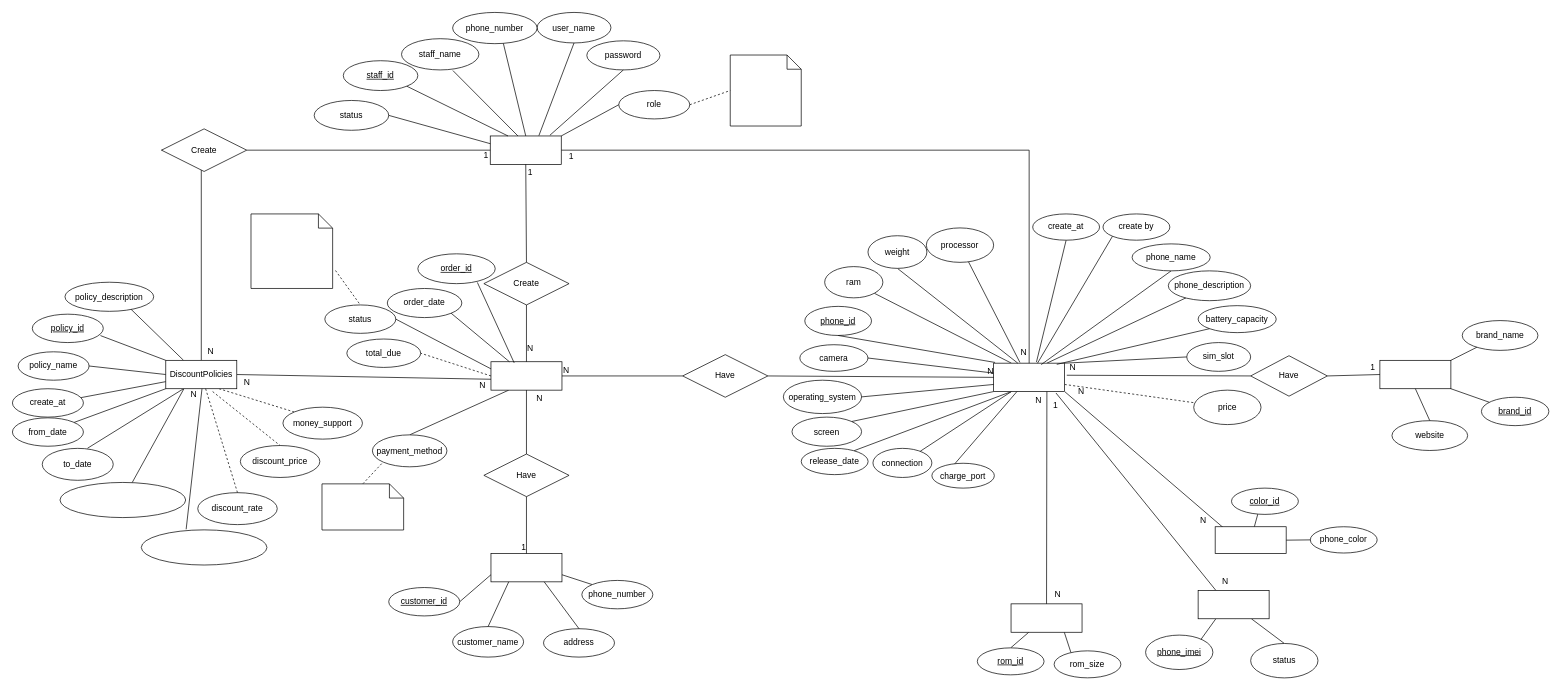
This 1561x691 diagram has some shape labels left out. Here are the shapes that lost their labels. From the top down, the centre of each, then its label:
At point (765, 90): "1. Seller 2. Accountant 3. Manager".
At point (525, 149): "Staffs".
At point (291, 250): "1. Pending 2. Confirmed 3. Cancelled 4. Completed".
At point (526, 375): "Orders".
At point (1029, 377): "Phones".
At point (1415, 374): "Brands".
At point (122, 500): "maximun_purchase_amount".
At point (362, 506): "1. Cash 2. Banking 3. VNPay".
At point (204, 547): "miniximun_purchase_amount".
At point (1250, 540): "Color".
At point (526, 567): "Customers".
At point (1046, 617): "ROMSize".
At point (1233, 604): "Imeis".
